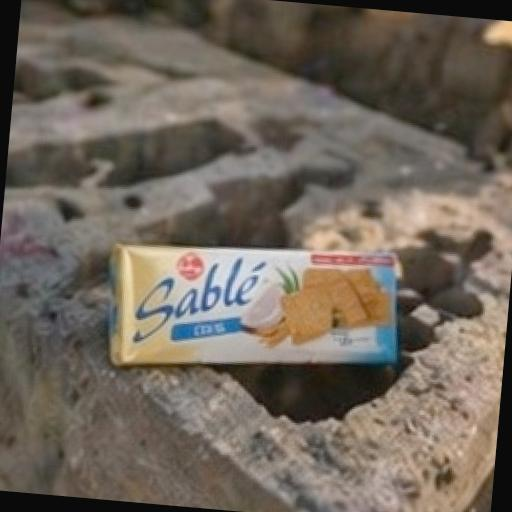sable: (76, 177, 451, 452)
